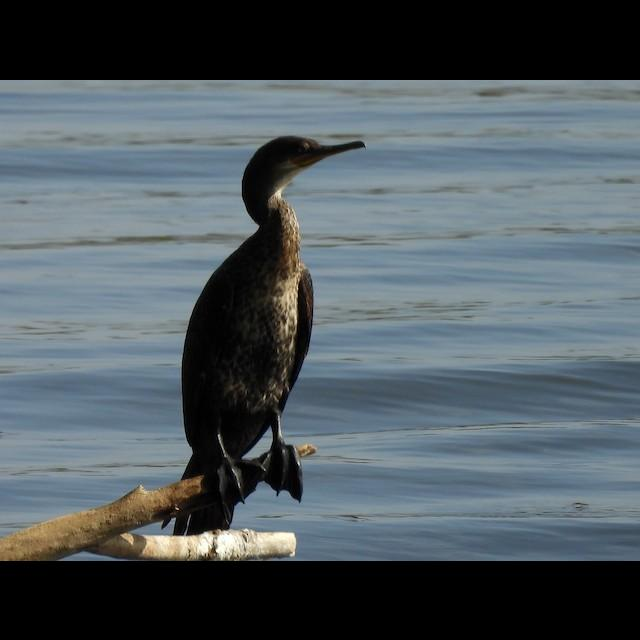cormorant: (170, 130, 370, 524)
